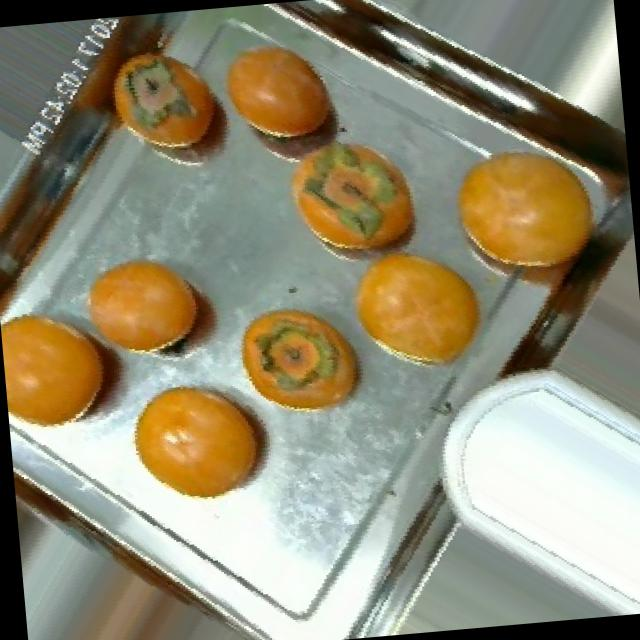Fruit: (423, 112, 638, 298), (100, 355, 302, 529), (259, 98, 442, 278), (326, 224, 514, 393), (0, 276, 164, 455), (210, 283, 387, 437), (54, 232, 240, 378), (94, 26, 255, 188), (197, 8, 360, 167)
